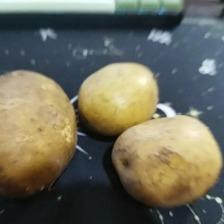Damaged potato: (110, 108, 223, 208), (0, 68, 76, 200)
Potato: (76, 61, 160, 136)
